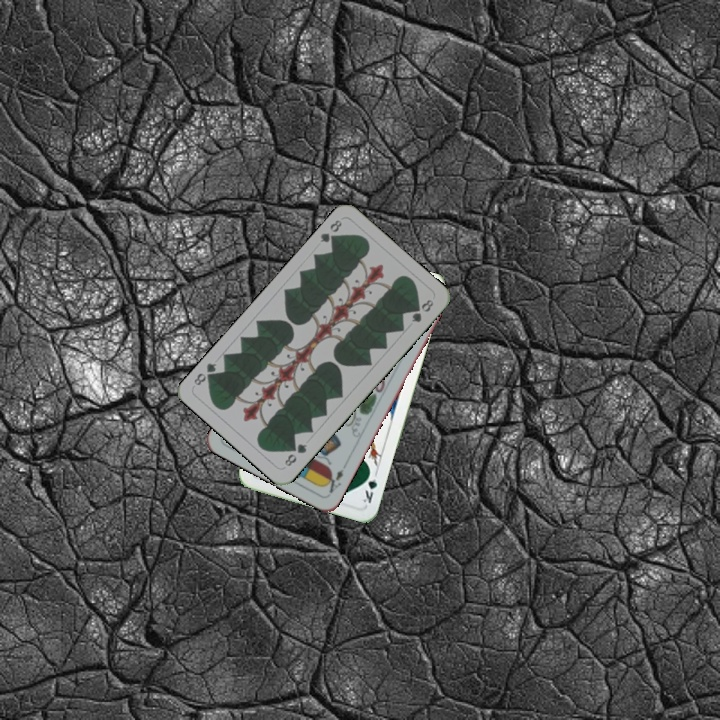EA: (320, 465, 346, 496)
G8: (281, 439, 310, 469), (316, 216, 344, 247)
GK: (358, 466, 380, 506)
